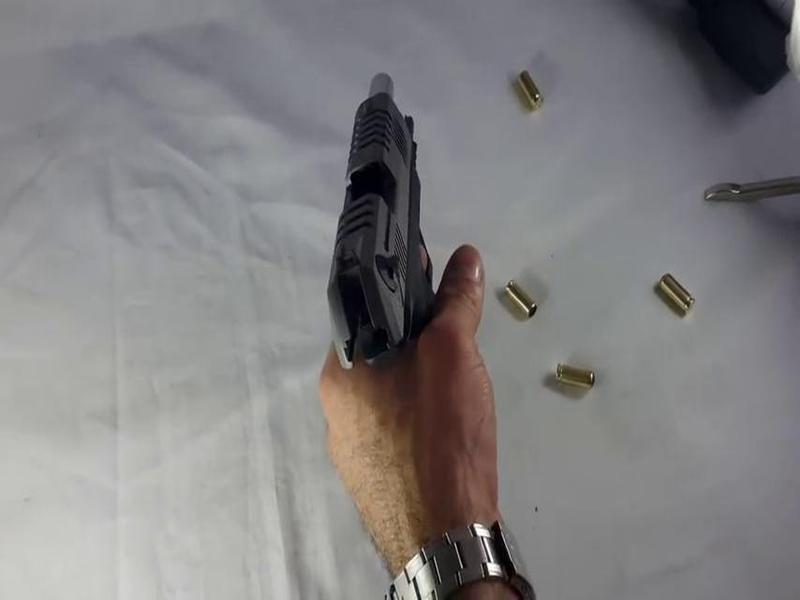Pistola: (281, 13, 494, 510)
